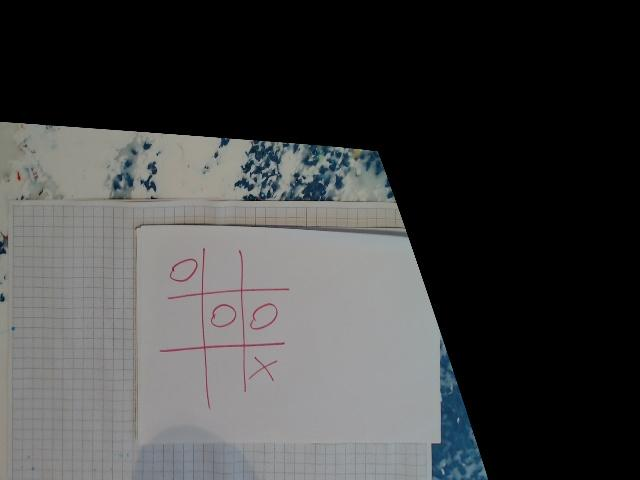O: (248, 300, 282, 334), (208, 301, 240, 332), (168, 256, 201, 282)
X: (250, 356, 280, 384)
grid: (159, 245, 295, 399)
